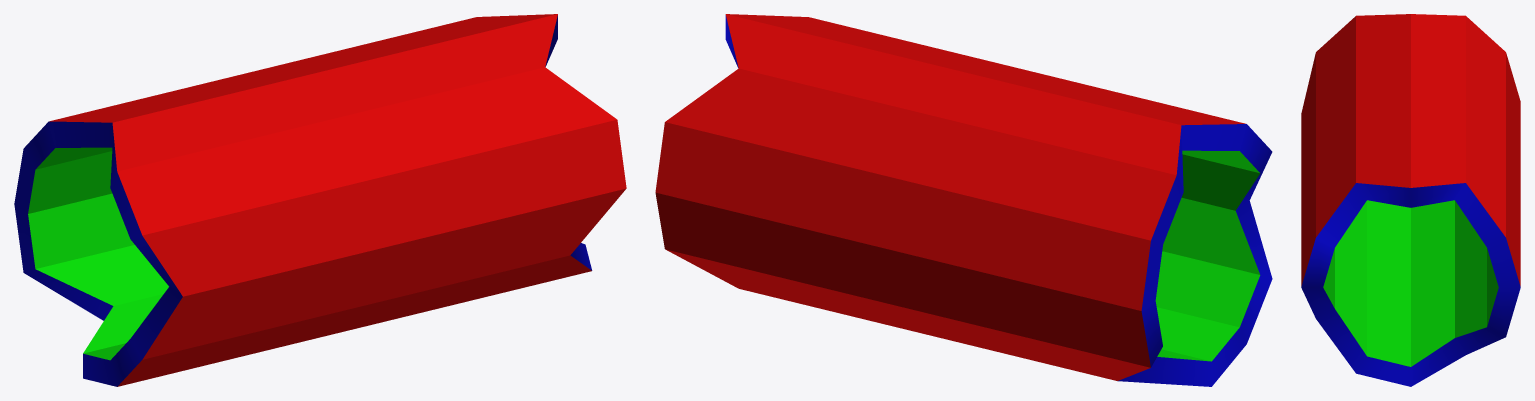
Rendered from SM_Log.fbx.
3 views of the same model, side by side, from view 1: azimuth 30°, elevation 25°; view 2: azimuth 150°, elevation 25°; view 3: azimuth 270°, elevation 25° (orthographic). The views are drawn at different scales.
Parts seen in each view (by area): view 1: log_geo; view 2: log_geo; view 3: log_geo.
Part boxes in pixels (x1,y1,x2,y2): log_geo: (14,14,626,386); log_geo: (655,14,1272,386); log_geo: (1301,14,1520,386).
Size of the model in its own units: 300 by 150 by 150.
